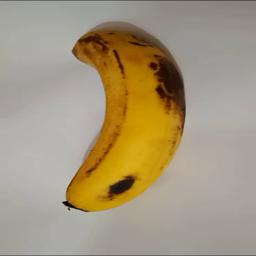Banana Semifresh: (51, 25, 187, 215)
